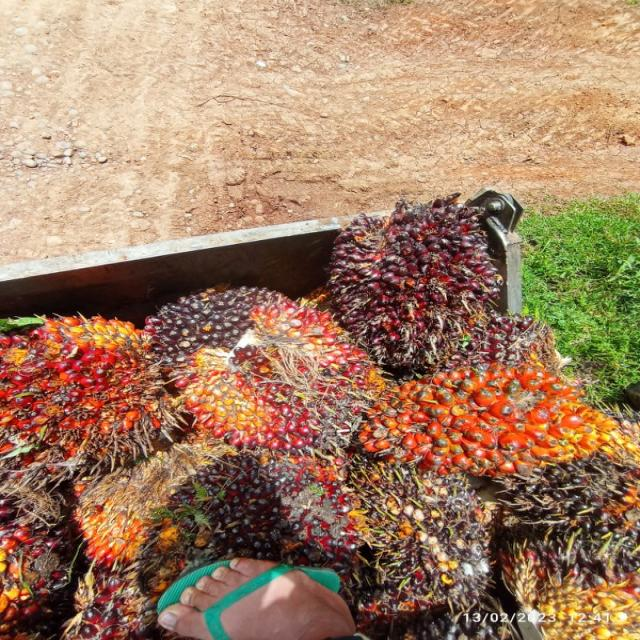fraksi 00: (337, 452, 516, 602), (515, 394, 640, 586), (143, 279, 296, 365)
fraksi 1: (309, 174, 511, 366)
fraksi 3: (165, 296, 378, 466)
fraksi 4: (357, 349, 612, 504), (0, 313, 207, 455)
